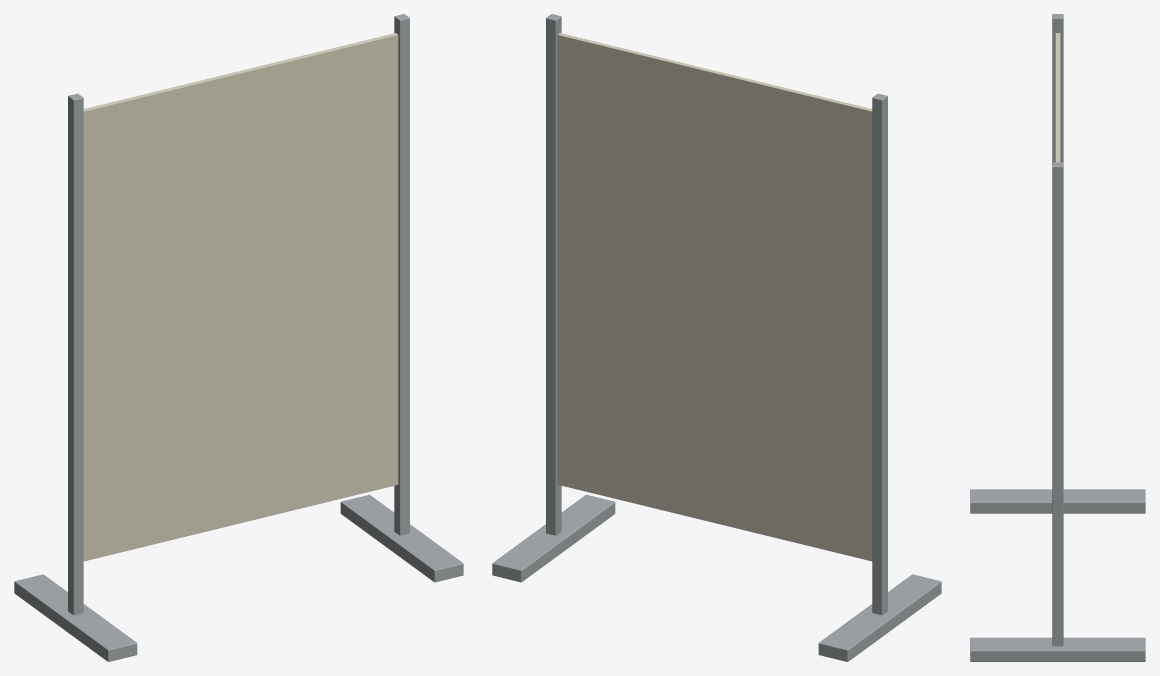
Rendered from field-medicine-and-recovery-field-screen-5741b7b6__3052.glb.
3 renders of one model, left to right at view 1: azimuth 30°, elevation 25°; view 2: azimuth 150°, elevation 25°; view 3: azimuth 270°, elevation 25°, orthographic. The views are drawn at different scales.
Parts seen in each view (by area): view 1: field-screen; view 2: field-screen; view 3: field-screen.
Boxes of the visible parts, <box> form: field-screen: <box>14,14,463,661</box>; field-screen: <box>492,14,941,661</box>; field-screen: <box>970,14,1145,661</box>.
Bounding box in the file's own units: 1.2 × 1.7 × 0.55.
